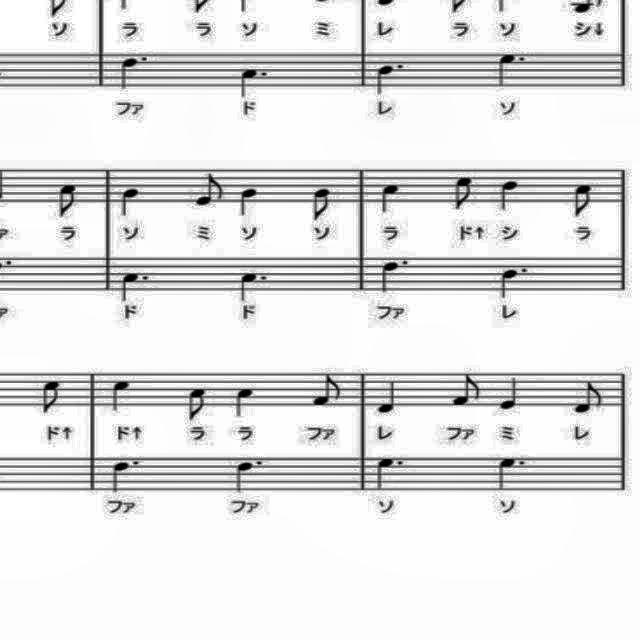Eighth-note: (444, 370, 488, 412), (569, 379, 609, 419), (192, 170, 228, 210), (306, 373, 344, 409), (449, 171, 479, 215), (52, 181, 84, 221), (310, 186, 338, 227), (570, 179, 594, 221), (40, 375, 64, 417), (185, 382, 209, 423)
Quarter-dot: (491, 455, 535, 497), (109, 453, 148, 499), (492, 47, 528, 93), (234, 456, 270, 500), (116, 50, 152, 90), (370, 60, 410, 96), (372, 454, 408, 494), (378, 256, 414, 296), (236, 64, 272, 102), (496, 262, 532, 300), (118, 268, 154, 304), (237, 268, 271, 306)
Quarter-note: (373, 378, 401, 420), (235, 185, 265, 223), (372, 177, 402, 215), (108, 376, 136, 416), (231, 384, 259, 421), (498, 376, 524, 414), (498, 177, 522, 215), (120, 181, 140, 221)
